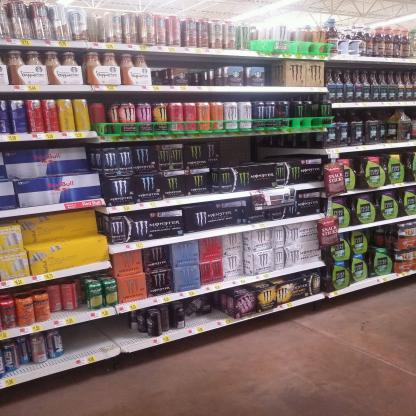Void: (224, 139, 310, 157), (67, 328, 128, 345), (154, 54, 215, 68), (226, 54, 270, 66), (186, 308, 229, 320)
